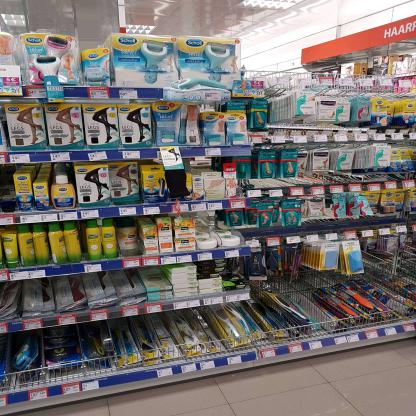Void: (2, 167, 13, 192)
